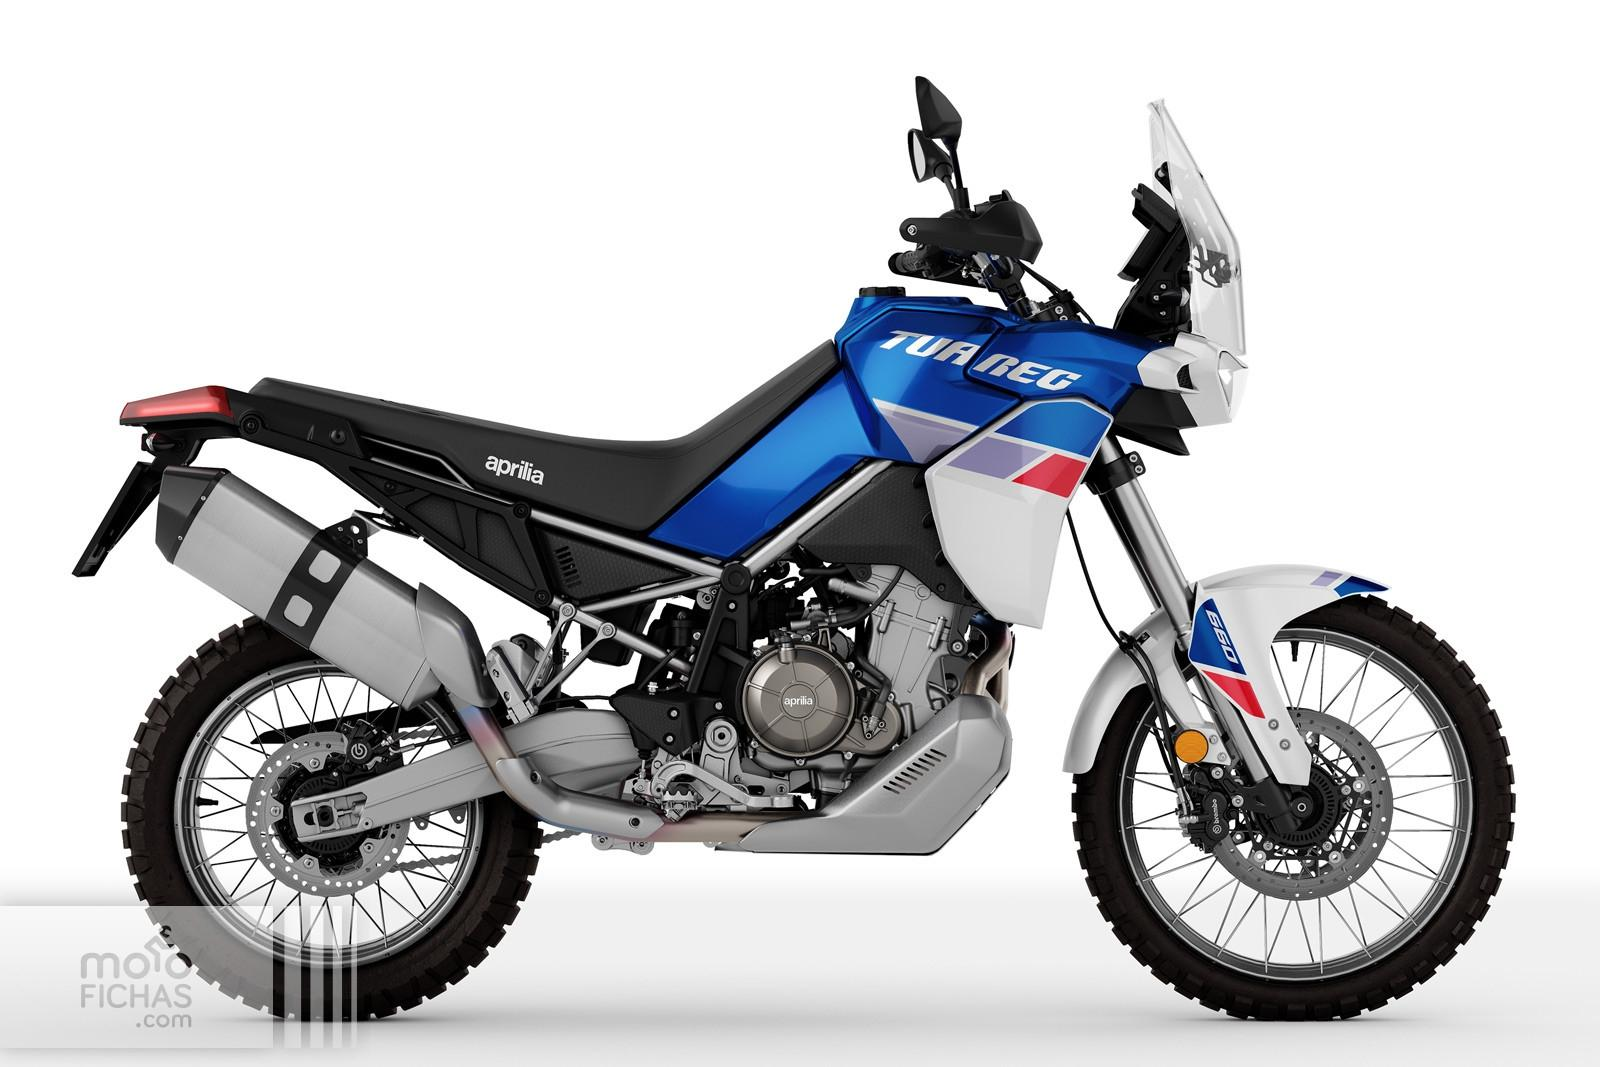engine-chasis: (612, 543, 1015, 854)
exhaust: (156, 466, 820, 847), (961, 610, 1015, 716)
frontside: (645, 99, 1392, 836)
handlebar: (888, 76, 1096, 325), (1113, 183, 1192, 347)
motorbike: (74, 77, 1511, 1017)
rearside: (71, 383, 723, 725), (290, 740, 505, 843), (502, 707, 642, 800)
seat: (248, 338, 840, 532)
tank: (835, 287, 1030, 463)
watermark: (0, 906, 360, 1067)
wheel: (1071, 593, 1515, 1024), (119, 617, 545, 1021), (1065, 505, 1200, 829), (1019, 260, 1099, 324), (633, 650, 682, 692), (539, 694, 610, 706)
